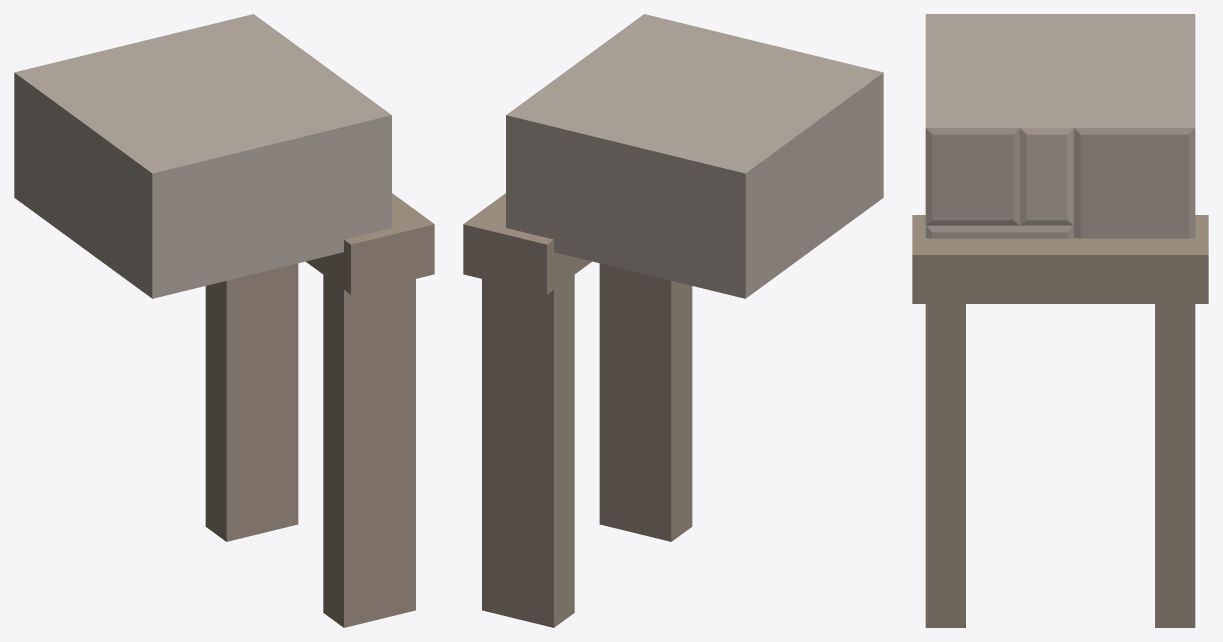
The model's file is Stone_Doorway_Narrow_Tall_1.glb.
3 views of the same model, side by side, from view 1: azimuth 30°, elevation 25°; view 2: azimuth 150°, elevation 25°; view 3: azimuth 270°, elevation 25° (orthographic). The views are drawn at different scales.
Visible parts, largest first — view 1: object1, object2; view 2: object1, object2; view 3: object1, object2.
Part boxes in pixels (x1,y1,x2,y2): object1: (14,14,391,298); object2: (205,193,434,627); object1: (506,14,883,298); object2: (463,193,692,627); object1: (925,14,1195,238); object2: (912,215,1208,627).
Bounding box in the file's own units: 1.15 × 2 × 1.1.
